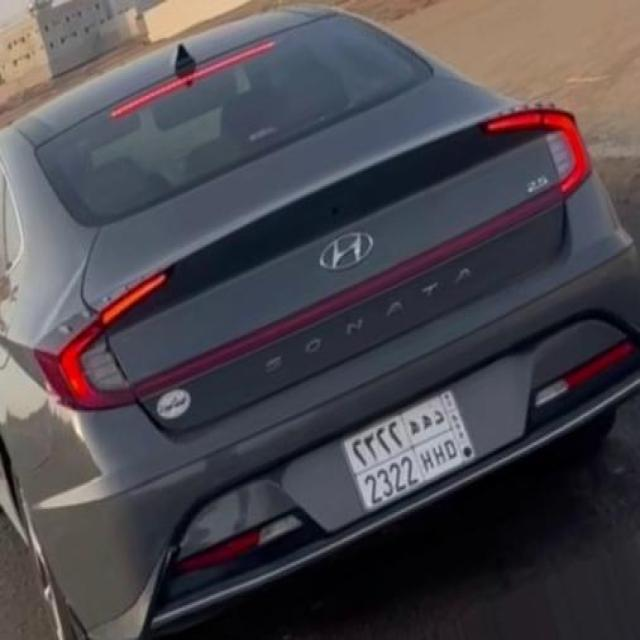Car-plate: (334, 375, 493, 522)
